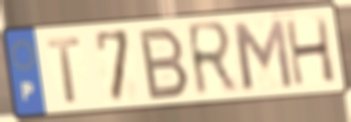7: (91, 29, 133, 106)
B: (138, 24, 192, 103)
H: (282, 14, 339, 89)
M: (229, 16, 296, 93)
R: (183, 18, 241, 102)
T: (44, 35, 83, 107)
